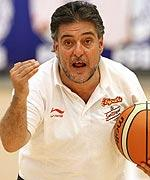basketball: (115, 103, 150, 167)
